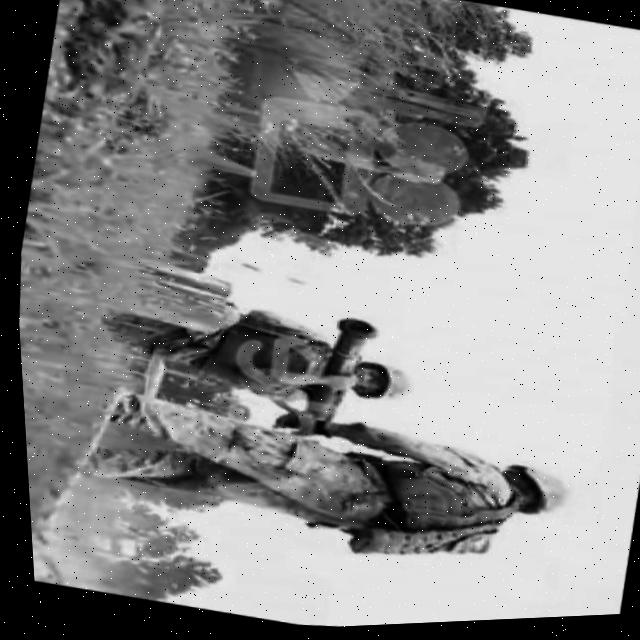rocket: (292, 310, 383, 448)
